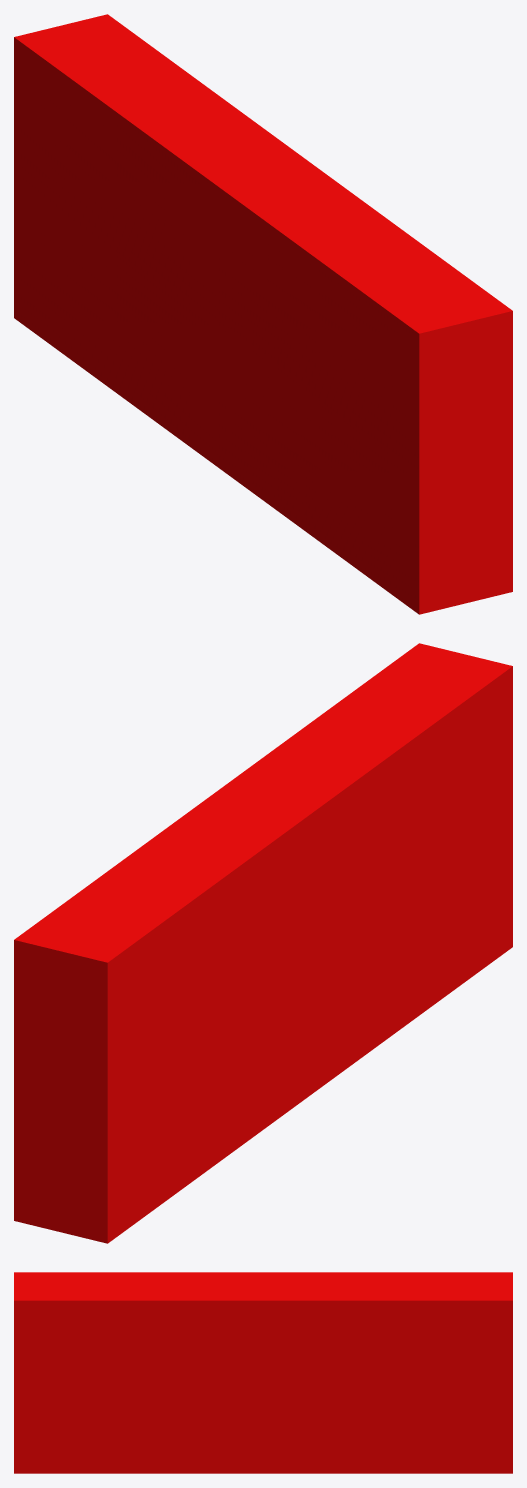
File: radius_col.dae
3 views of the same model, one above another, from view 1: azimuth 30°, elevation 25°; view 2: azimuth 150°, elevation 25°; view 3: azimuth 270°, elevation 25° (orthographic). The views are drawn at different scales.
Visible parts, largest first — view 1: node0; view 2: node0; view 3: node0.
Boxes of the visible parts, <box> form: node0: <box>14,14,512,614</box>; node0: <box>14,643,512,1243</box>; node0: <box>14,1272,512,1473</box>.
Size of the model in its own units: 0.0301 by 0.0861 by 0.2251.
